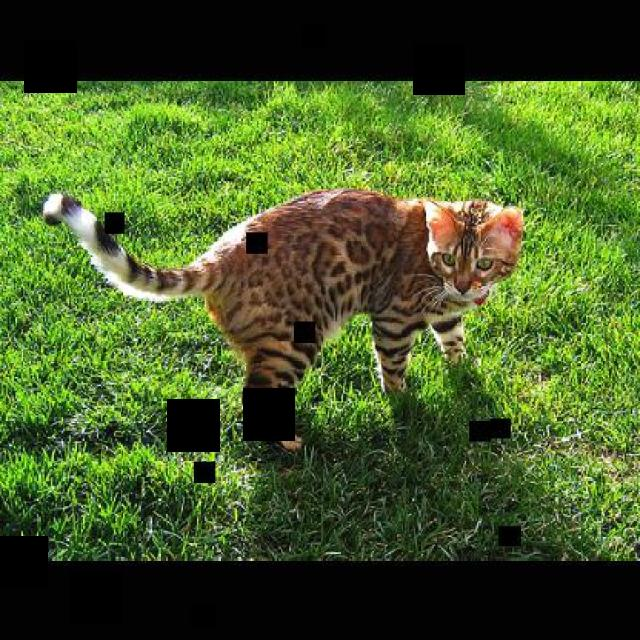unauthorized: (40, 186, 525, 454)
